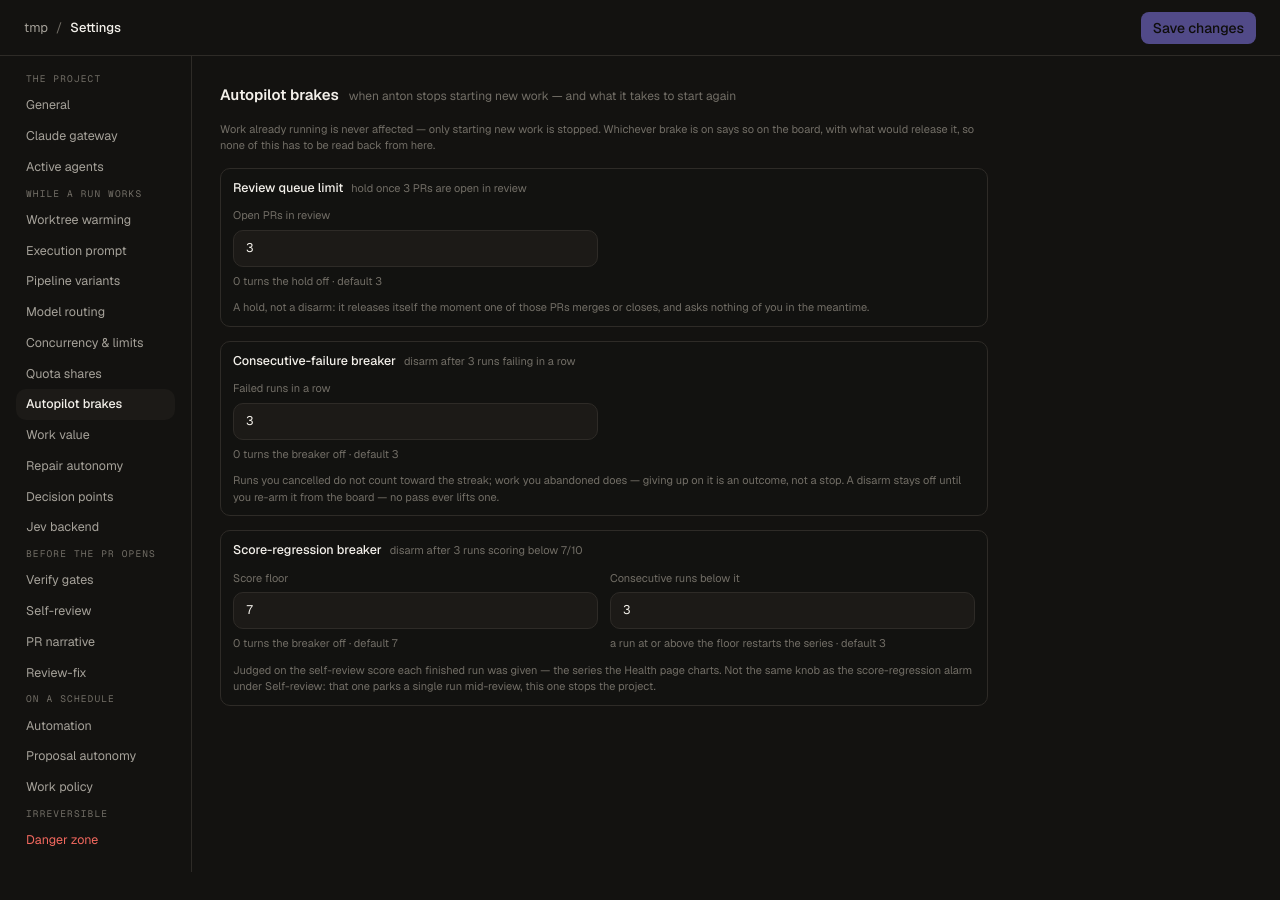
Test: SettingsView autopilot brakes (anton-nmy7) › clamps an out-of-range knob to the range the API would have rejected
The width and height of the screenshot is (1280, 900).
Replace the text in the number field labelled "Score floor" with "99" at (416, 611), box x1=233 y1=592 x2=598 y2=629
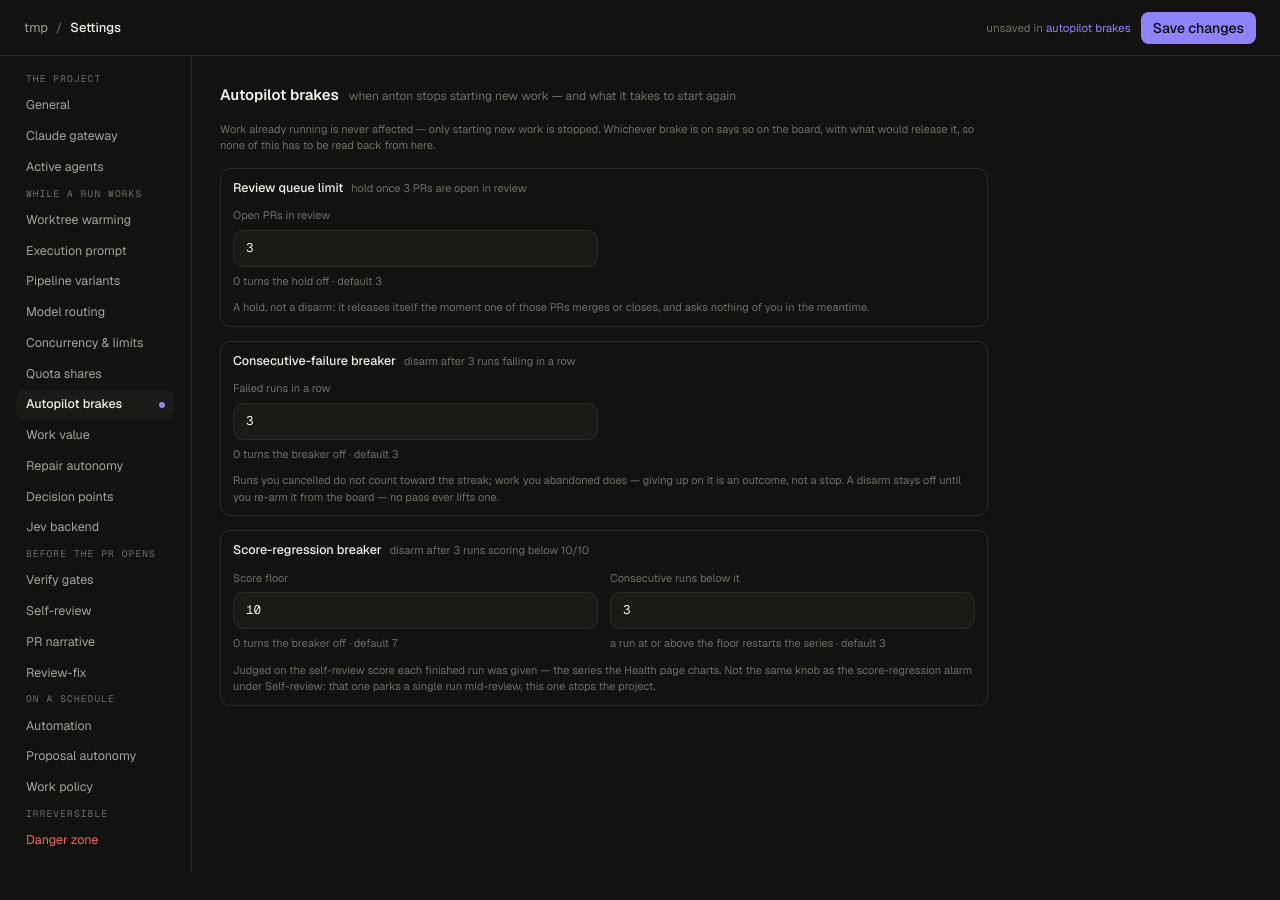
Now the number field labelled "Score floor" holds "10", box x1=233 y1=592 x2=598 y2=629
